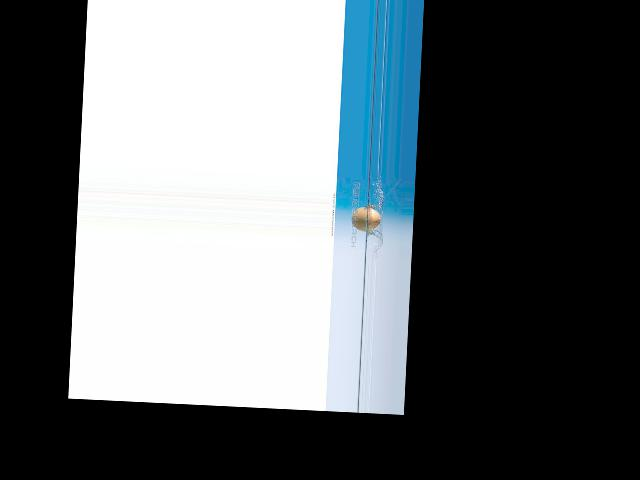egg: (351, 206, 381, 232)
